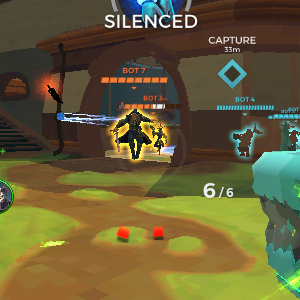model: (114, 107, 149, 166), (150, 116, 171, 155)
